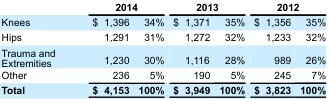table: (0, 0, 325, 95)
table column: (0, 0, 73, 95), (73, 0, 133, 95), (167, 0, 213, 95), (248, 0, 294, 95), (213, 0, 248, 95), (133, 0, 167, 95), (294, 0, 325, 95)
table column header: (0, 0, 325, 29)
table row: (0, 44, 325, 68), (0, 14, 325, 29), (0, 29, 325, 44), (0, 0, 325, 14), (0, 68, 325, 82), (0, 82, 325, 95)
table spanning cell: (0, 0, 73, 29), (73, 0, 167, 14), (167, 0, 248, 14), (248, 0, 325, 14)
